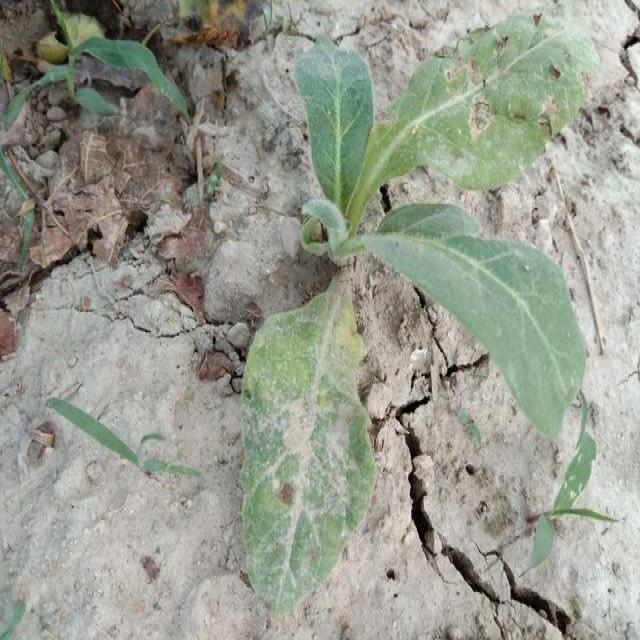crop: (244, 36, 595, 592)
